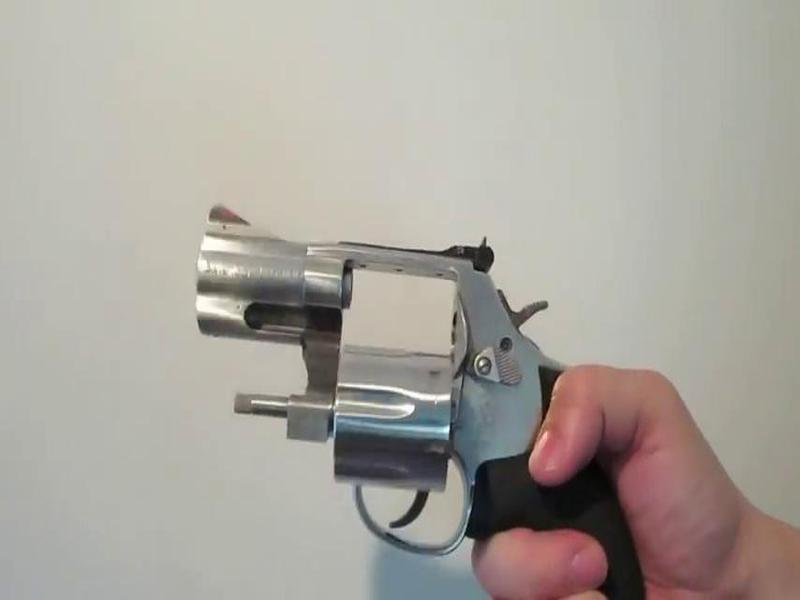Revolver: (172, 198, 650, 600)
